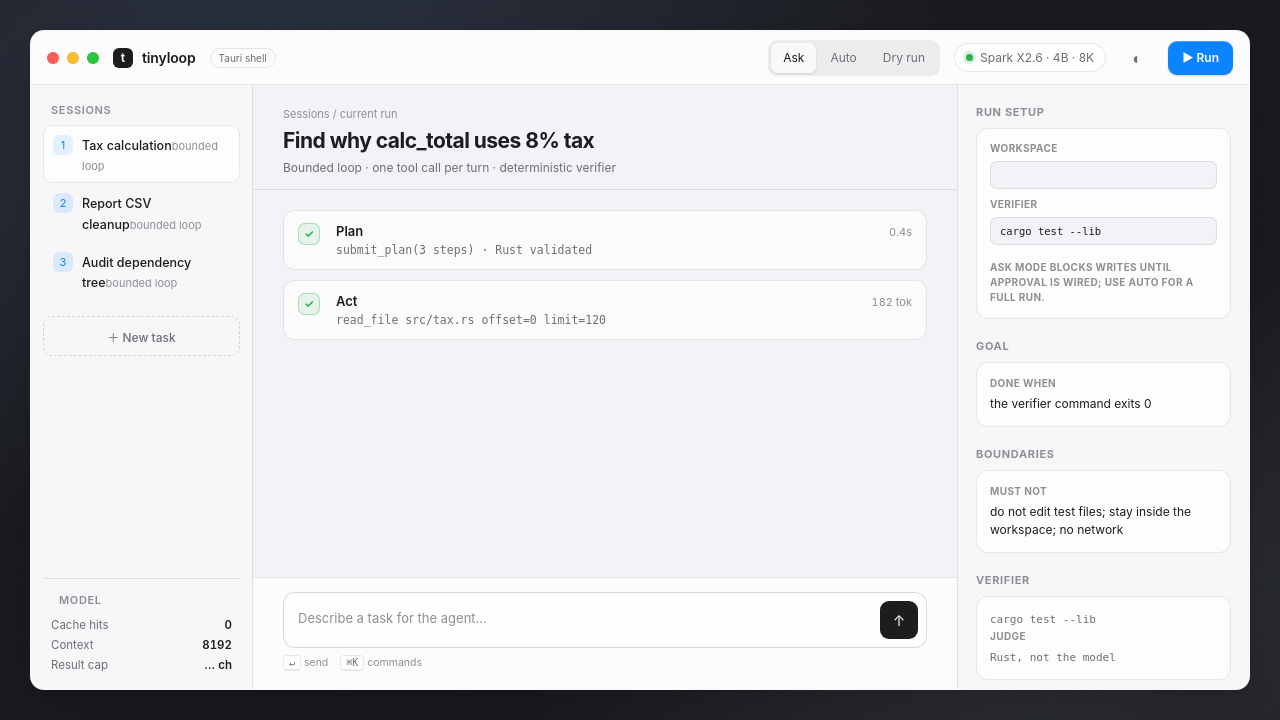
it: tinyloop desktop under Tauri › blocks a write until Allow and forwards the exact approval id
The image size is (1280, 720).
Step 1. Click the button with test id "run-button" → [1201, 58], box [1168,40,1233,74]
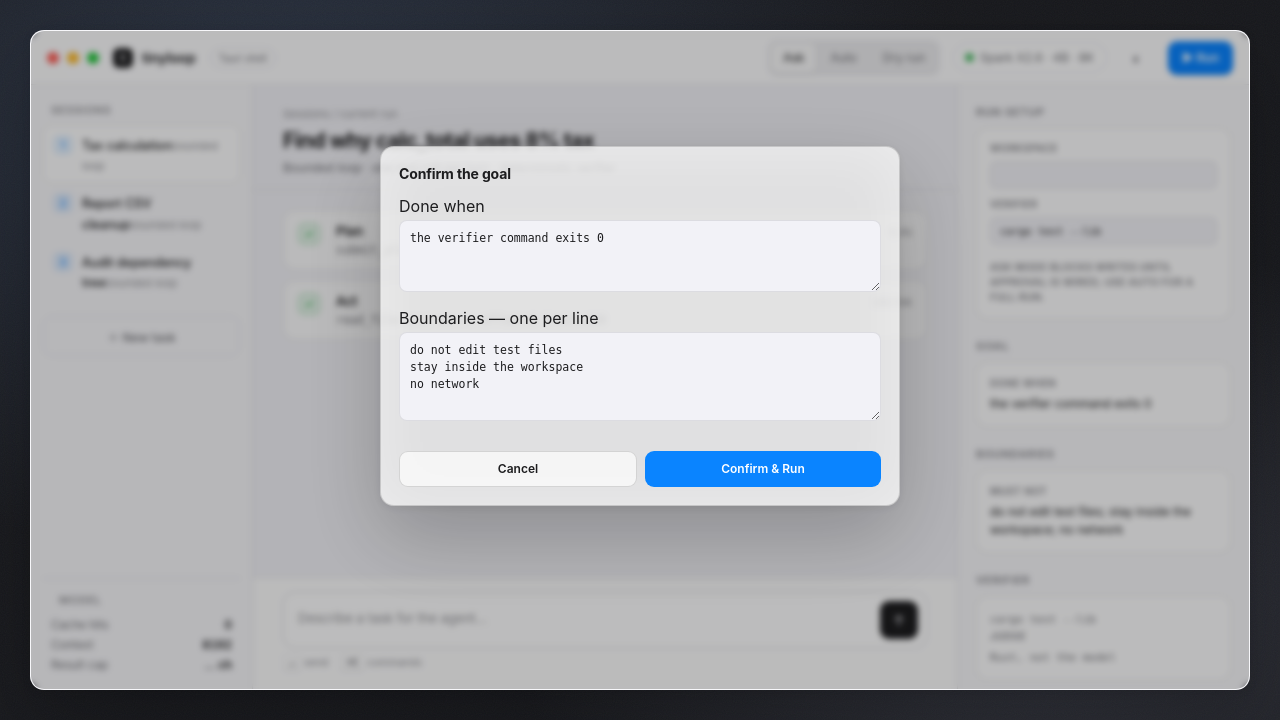
Step 2. Click the button with test id "clarify-confirm" → [763, 469], box [645,451,881,487]
(page scrolled)
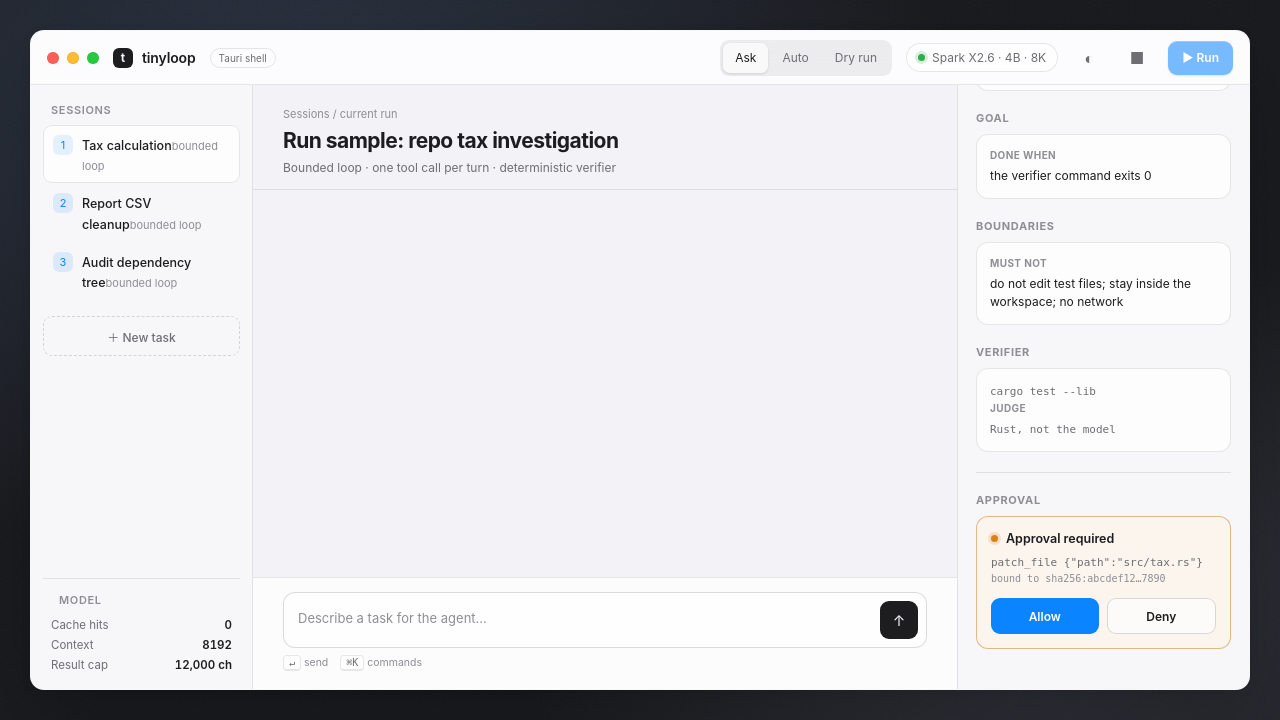
Expected: the element with test id "approval-card" is shown, [976,516,1231,649]
Expected: the text "patch_file {\"path\":\"src/tax.rs\"}" is shown, [991,556,1216,569]
Expected: the text "bound to sha256:abcdef12…7890" is shown, [991,573,1166,584]
Step 3. Click the button with test id "allow-button" → [1045, 616], box [991,598,1098,634]
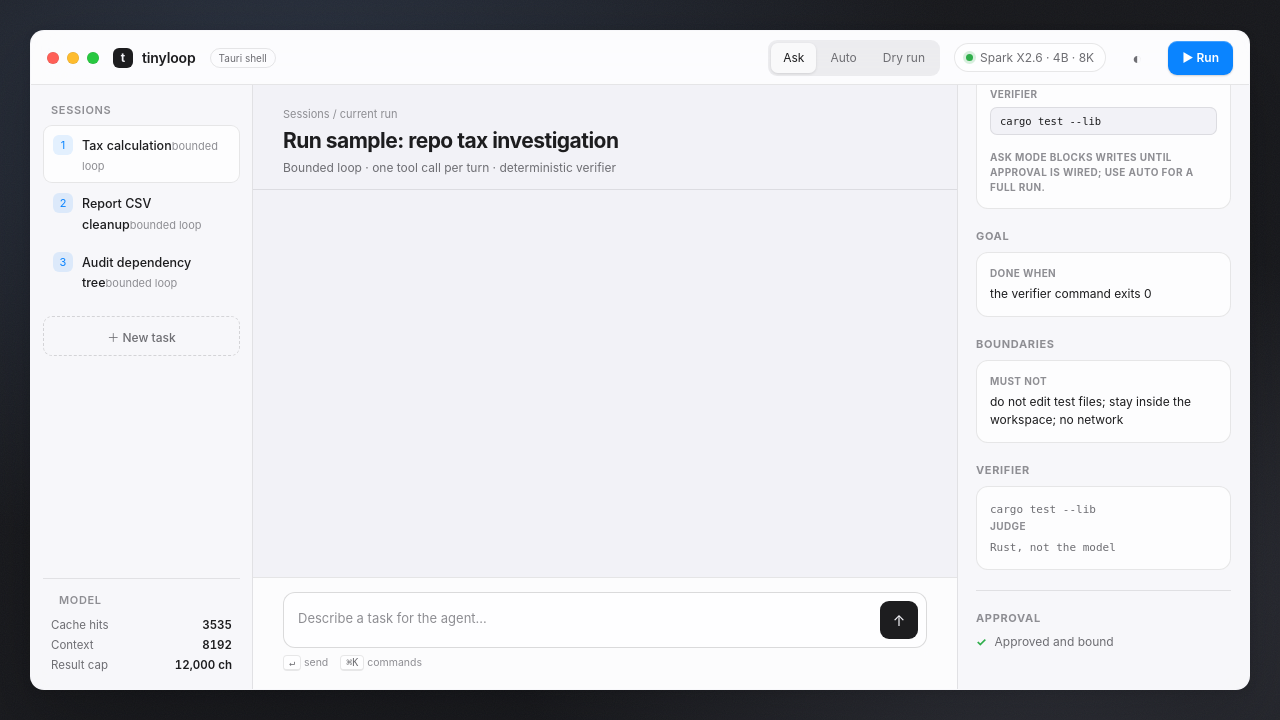
Expected: the text "Approved and bound" is shown, [995,634,1114,649]
